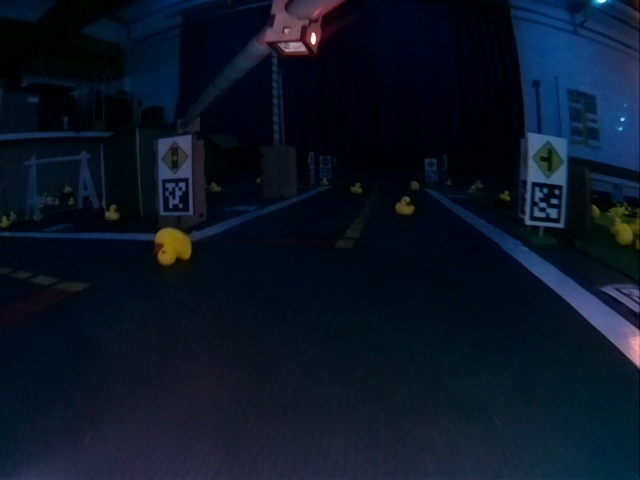Duckie: (154, 229, 190, 265), (396, 197, 415, 215), (106, 206, 119, 220), (351, 182, 361, 192), (500, 191, 510, 200)
Intersection sign: (531, 139, 565, 179)
QR code: (528, 182, 564, 224), (160, 177, 191, 214)
Signal sign: (163, 141, 189, 174)
Traffic light: (268, 0, 322, 56)
